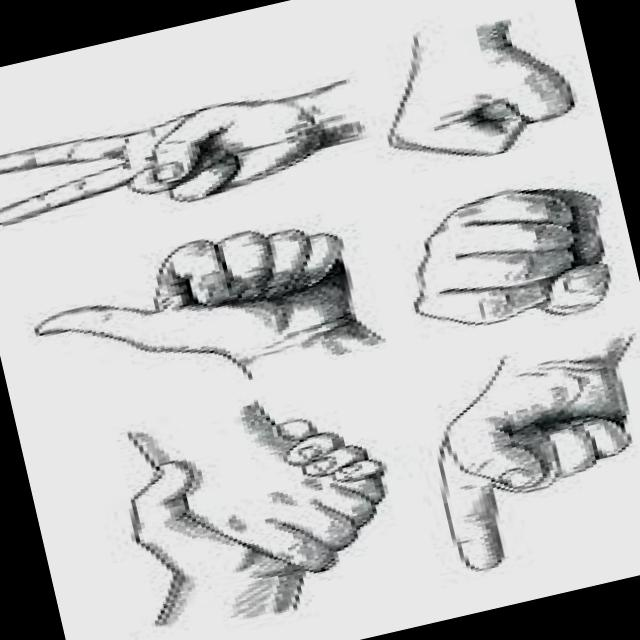Hand: (0, 66, 373, 248), (16, 205, 366, 396), (409, 353, 640, 580), (109, 410, 364, 596), (384, 166, 624, 352), (167, 413, 401, 602), (357, 0, 585, 180)
